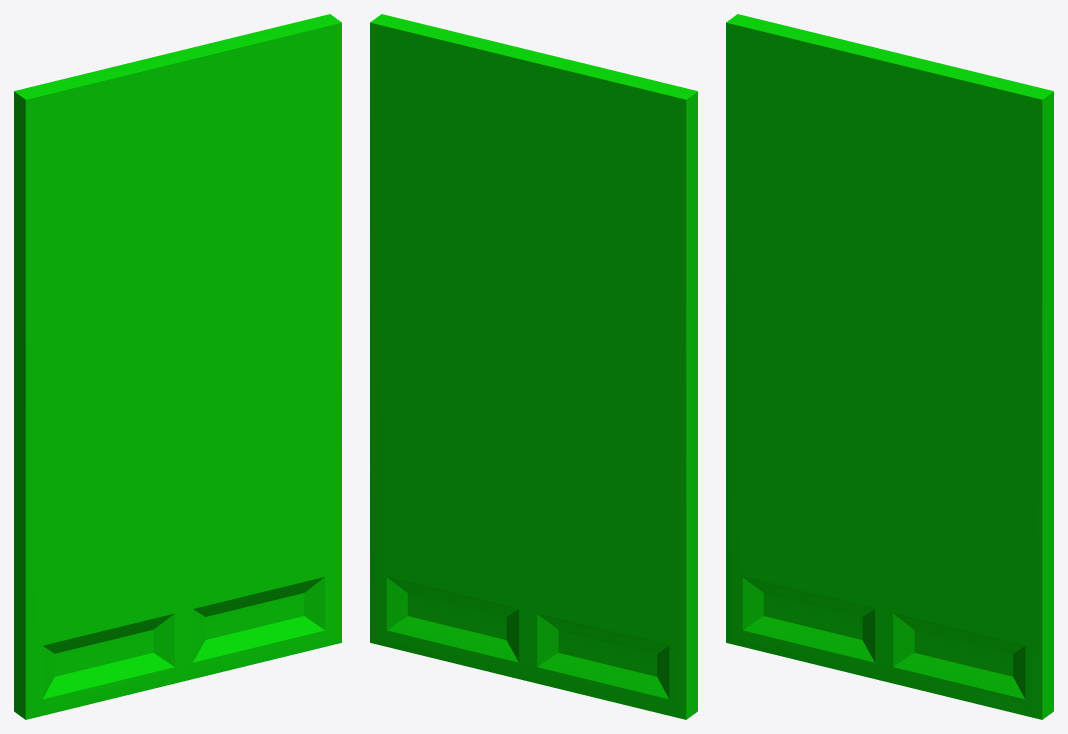
Rendered from SteeldoorA.fbx.
3 renders of one model, left to right at view 1: azimuth 30°, elevation 25°; view 2: azimuth 150°, elevation 25°; view 3: azimuth 330°, elevation 25°, orthographic.
Parts seen in each view (by area): view 1: SteeldoorA; view 2: SteeldoorA; view 3: SteeldoorA.
Boxes of the visible parts, x1=… form: SteeldoorA: x1=14, y1=14, x2=341, y2=719; SteeldoorA: x1=370, y1=14, x2=697, y2=719; SteeldoorA: x1=726, y1=14, x2=1053, y2=719.
Bounding box in the file's own units: 126 × 236 × 8.09.
